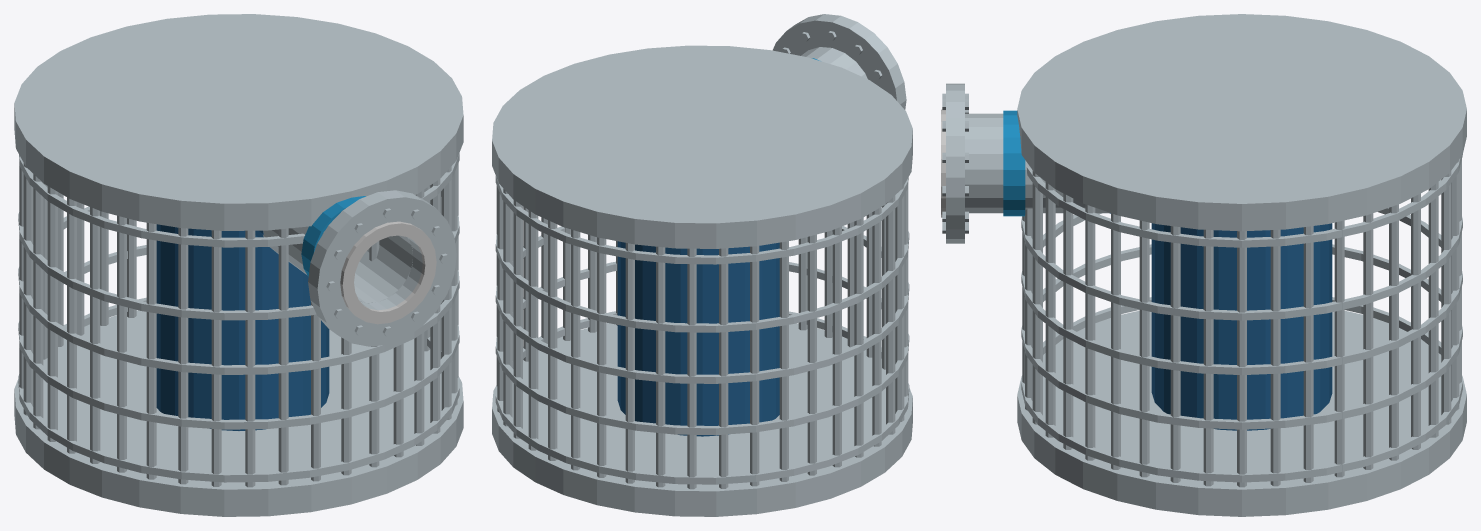
File: body.obj
The picture shows the model from 3 angles, left to right: view 1: azimuth 30°, elevation 25°; view 2: azimuth 150°, elevation 25°; view 3: azimuth 270°, elevation 25°; orthographic projection. The views are drawn at different scales.
Size of the model in its own units: 2.24 by 1.82 by 2.62.
